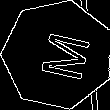M_W: (27, 27, 88, 83)
